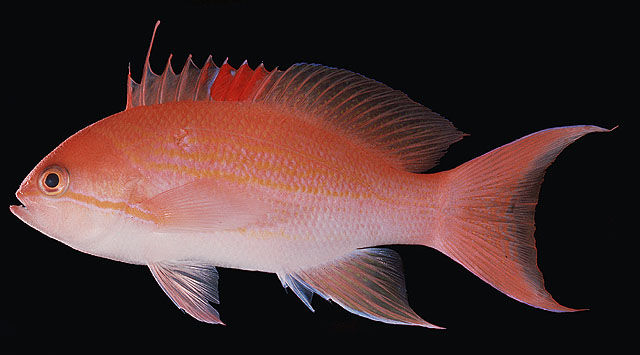fish: (9, 21, 619, 330)
